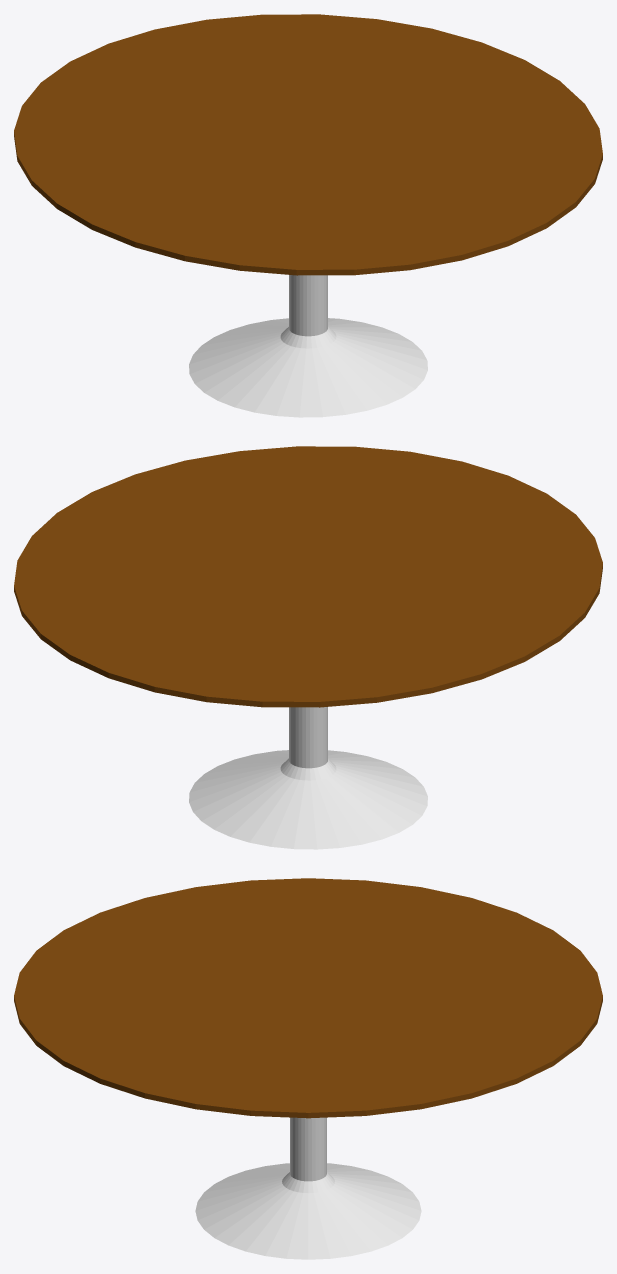
Rendered from Club table.fbx.
3 views of the same model, one above another, from view 1: azimuth 30°, elevation 25°; view 2: azimuth 150°, elevation 25°; view 3: azimuth 270°, elevation 25° (orthographic). The views are drawn at different scales.
Parts seen in each view (by area): view 1: Cylinder.001; view 2: Cylinder.001; view 3: Cylinder.001.
Part boxes in pixels (x1,y1,x2,y2): Cylinder.001: [14, 14, 602, 417]; Cylinder.001: [14, 446, 602, 849]; Cylinder.001: [14, 878, 602, 1259].
Bounding box in the file's own units: 404 × 173 × 429.
